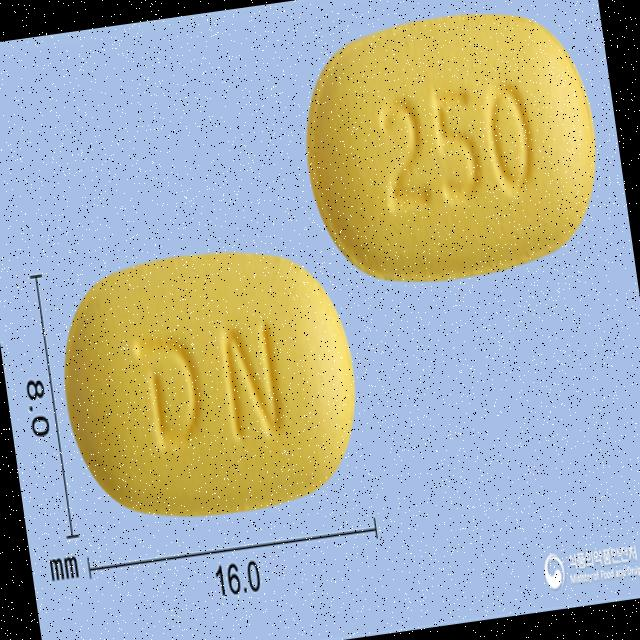Clamycin: (44, 228, 378, 541), (287, 0, 618, 304)
